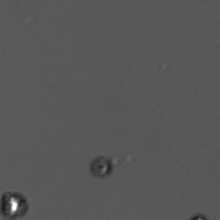Dead Cell: (89, 157, 113, 177)
Living Cell: (1, 192, 29, 218)
